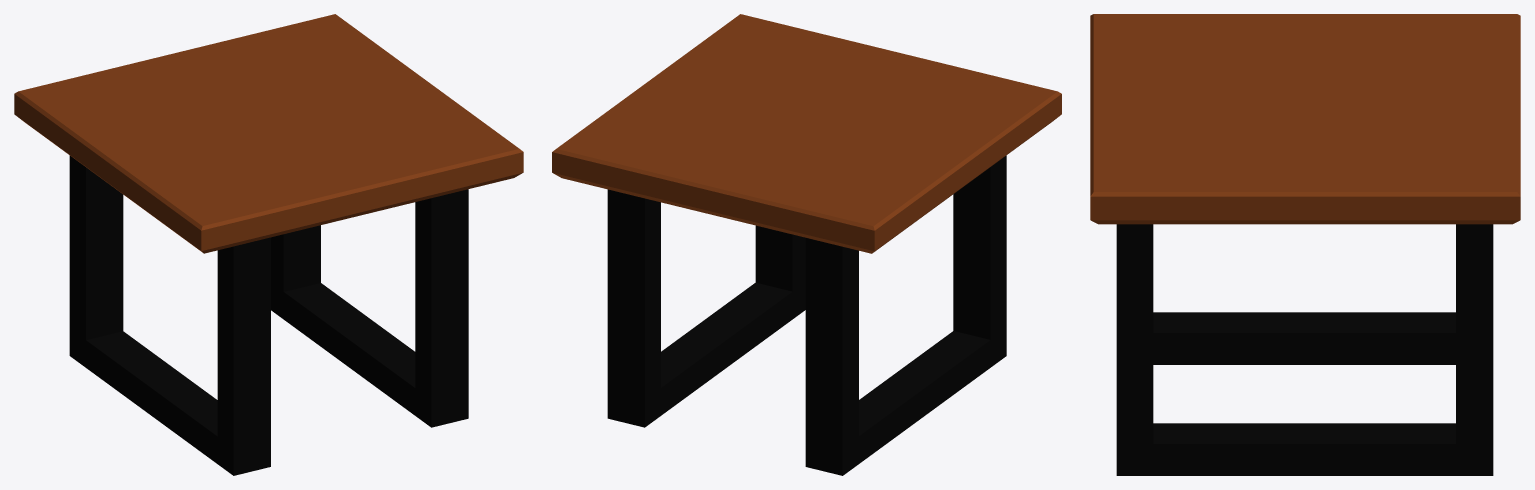
Rendered from Small table.fbx.
3 renders of one model, left to right at view 1: azimuth 30°, elevation 25°; view 2: azimuth 150°, elevation 25°; view 3: azimuth 270°, elevation 25°, orthographic. The views are drawn at different scales.
Visible parts, largest first — view 1: Small; view 2: Small; view 3: Small.
Boxes of the visible parts, x1,y1,x2,y2 form: Small: [14, 14, 523, 475]; Small: [552, 14, 1061, 475]; Small: [1090, 14, 1520, 475].
Bounding box in the file's own units: 198 × 157 × 199.
